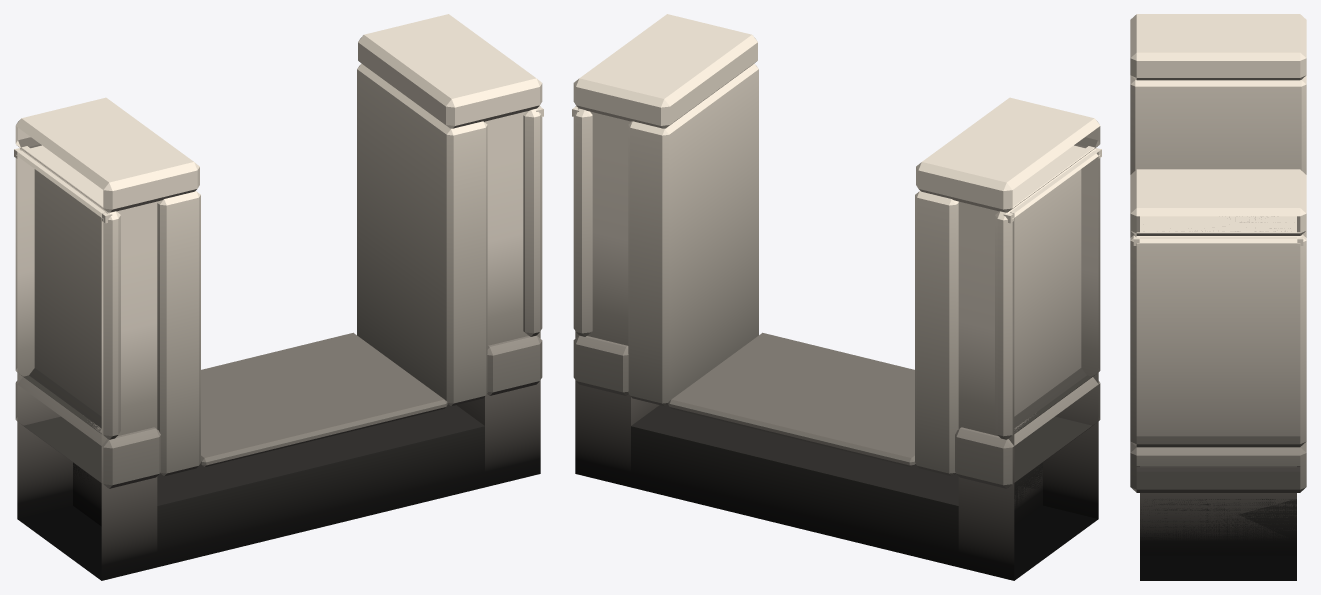
Rendered from SM_VKI_Wall_Timber_Door_150_Cut.fbx.
3 views of the same model, side by side, from view 1: azimuth 30°, elevation 25°; view 2: azimuth 150°, elevation 25°; view 3: azimuth 270°, elevation 25° (orthographic). The views are drawn at different scales.
Visible parts, largest first — view 1: SM_VKI_Wall_Timber_Door_150_Cut.001; view 2: SM_VKI_Wall_Timber_Door_150_Cut.001; view 3: SM_VKI_Wall_Timber_Door_150_Cut.001.
Part boxes in pixels (bbox=[...]): SM_VKI_Wall_Timber_Door_150_Cut.001: bbox=[14, 14, 543, 580]; SM_VKI_Wall_Timber_Door_150_Cut.001: bbox=[572, 14, 1101, 580]; SM_VKI_Wall_Timber_Door_150_Cut.001: bbox=[1130, 14, 1306, 580].
Size of the model in its own units: 1.5 by 1.3 by 0.56.
